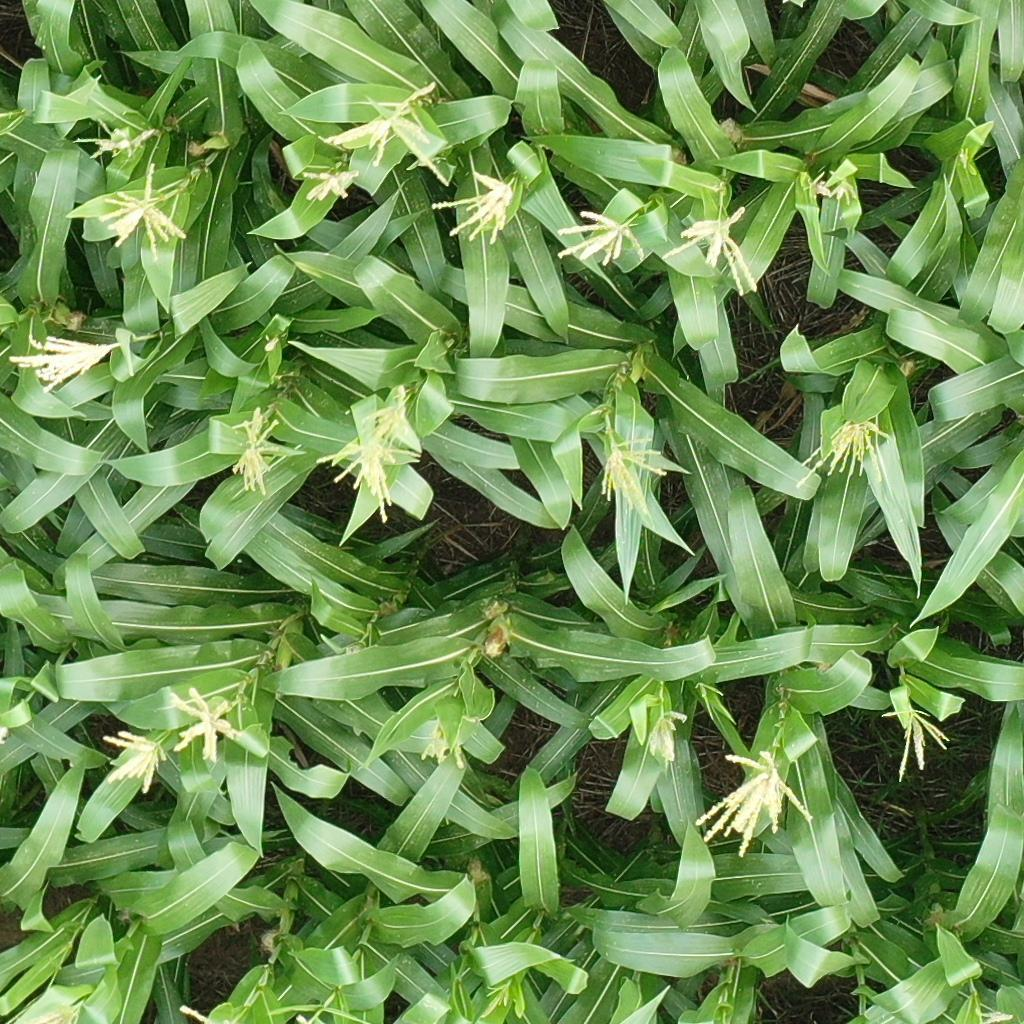Tassel: (321, 82, 456, 190), (693, 750, 819, 864), (659, 202, 761, 297), (93, 162, 189, 262), (331, 379, 407, 496), (316, 442, 423, 525), (791, 416, 895, 492), (6, 332, 122, 392), (599, 432, 668, 527), (430, 172, 518, 245), (550, 208, 646, 270), (880, 703, 953, 783), (165, 686, 240, 760), (227, 407, 283, 498), (100, 727, 170, 797), (72, 116, 156, 162), (641, 706, 687, 767), (299, 166, 360, 206), (420, 721, 467, 769), (2, 1000, 84, 1024), (695, 676, 724, 721), (480, 979, 512, 1019), (805, 169, 835, 200), (832, 177, 857, 205), (976, 1007, 1017, 1024), (959, 148, 969, 169)
